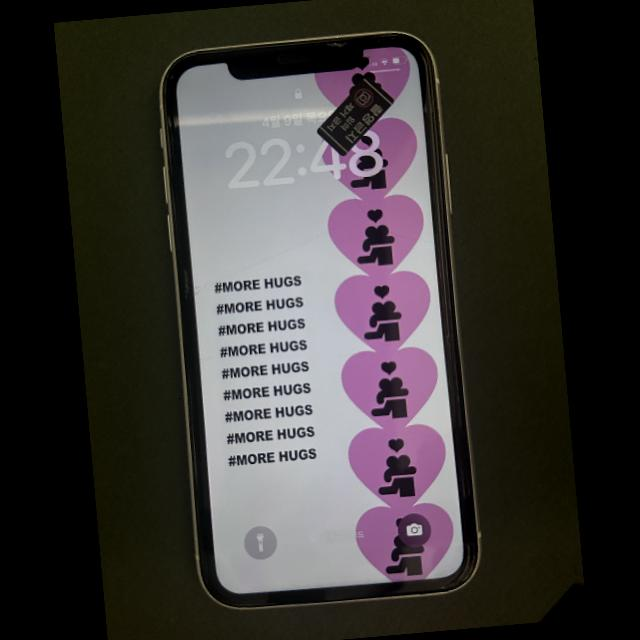phone: (161, 33, 478, 606)
sticker: (317, 76, 394, 156)
